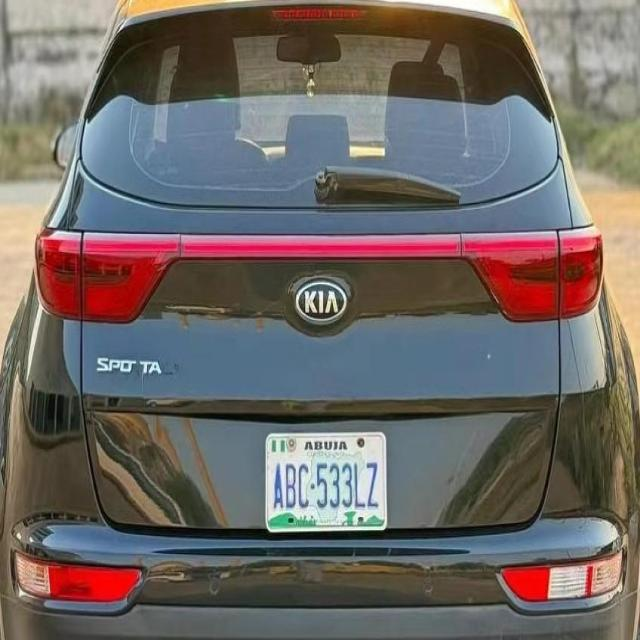Nigerian License Plate - vdataset benjamin-daria: (264, 427, 389, 535)
